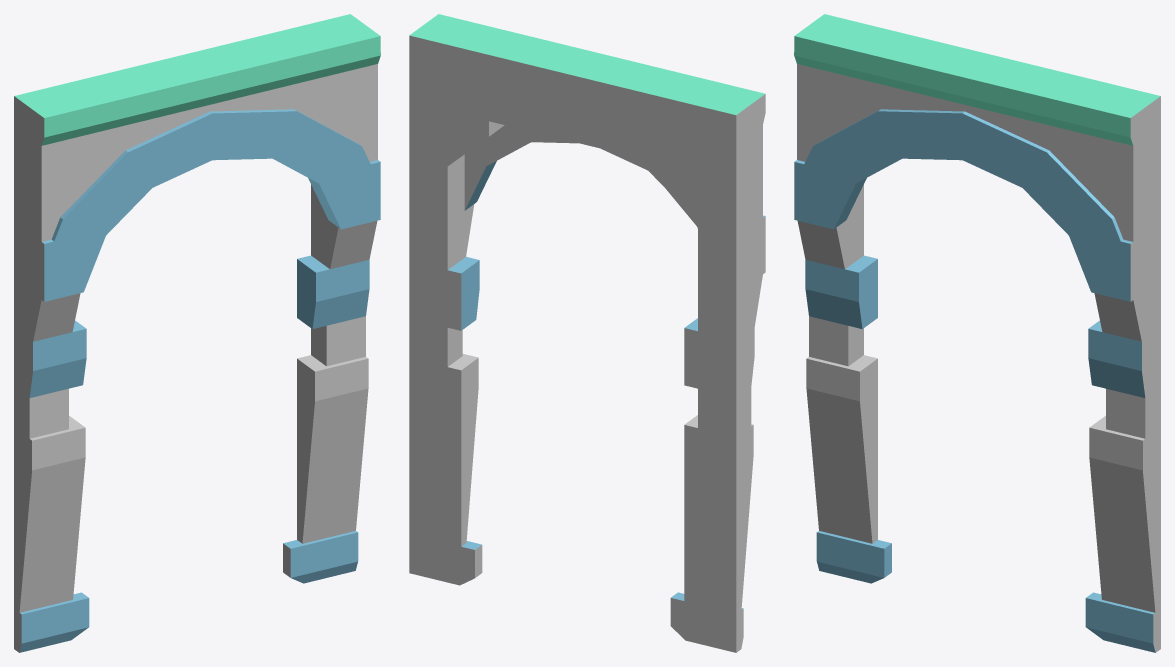
File: Prop_Building_Eastern_Facade_Arch_01.FBX
3 renders of one model, left to right at view 1: azimuth 30°, elevation 25°; view 2: azimuth 150°, elevation 25°; view 3: azimuth 330°, elevation 25°, orthographic. The views are drawn at different scales.
Parts seen in each view (by area): view 1: Prop_Building_Eastern_Facade_Arch_01; view 2: Prop_Building_Eastern_Facade_Arch_01; view 3: Prop_Building_Eastern_Facade_Arch_01.
Boxes of the visible parts, bbox=[...] form: Prop_Building_Eastern_Facade_Arch_01: bbox=[14, 14, 380, 652]; Prop_Building_Eastern_Facade_Arch_01: bbox=[409, 14, 765, 652]; Prop_Building_Eastern_Facade_Arch_01: bbox=[794, 14, 1160, 652].
Bounding box in the file's own units: 3699 × 5812 × 577.
